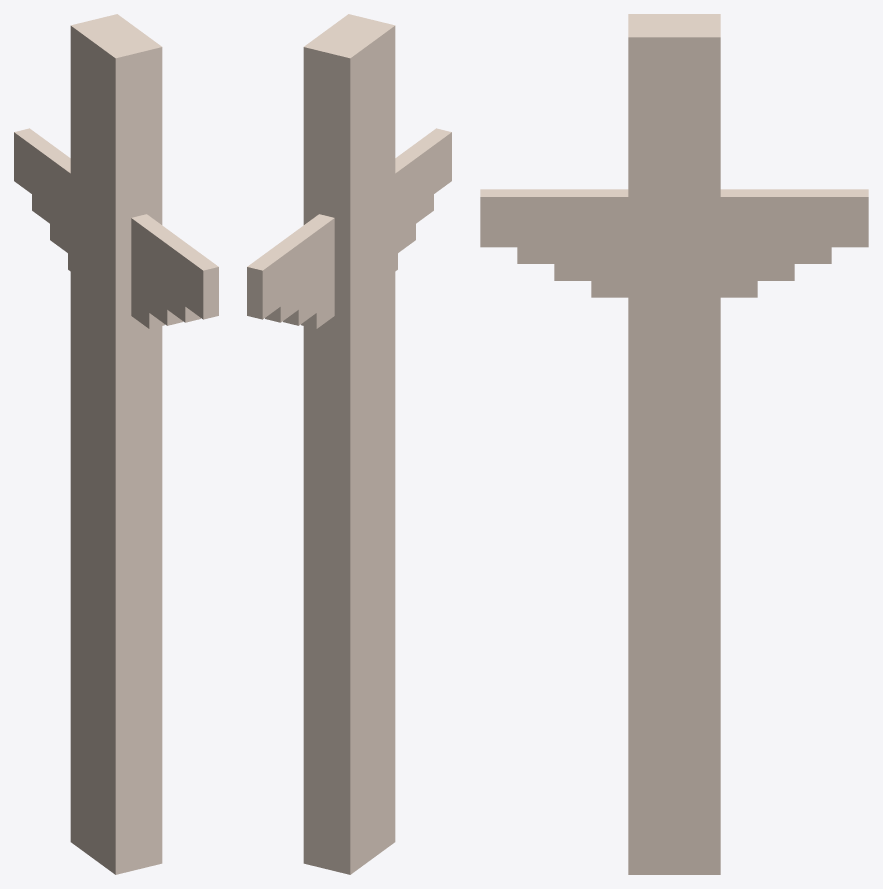
Rendered from south-gate-column.obj.
3 renders of one model, left to right at view 1: azimuth 30°, elevation 25°; view 2: azimuth 150°, elevation 25°; view 3: azimuth 270°, elevation 25°, orthographic. The views are drawn at different scales.
Size of the model in its own units: 0.3 by 5 by 2.1.
Materials: 1 (1 with a texture image).
